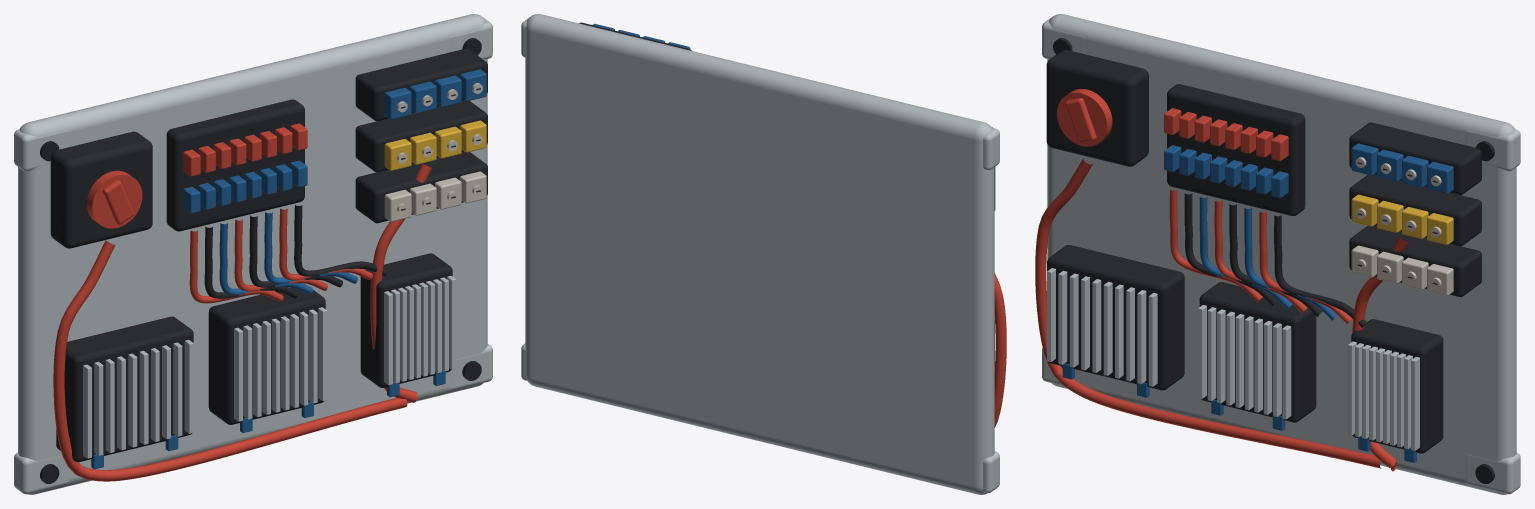
The model's file is anatomy-48.glb.
The picture shows the model from 3 angles, left to right: view 1: azimuth 30°, elevation 25°; view 2: azimuth 150°, elevation 25°; view 3: azimuth 330°, elevation 25°; orthographic projection.
Parts seen in each view (by area): view 1: frame, converters, terminals, harness, fuses, switch, terminal-screws, studs, clamps; view 2: frame, harness; view 3: frame, converters, terminals, harness, fuses, switch, terminal-screws, clamps, studs.
Part boxes in pixels (x1,y1,x2,y2): frame: (14, 14, 492, 494); converters: (56, 253, 455, 462); terminals: (355, 48, 487, 223); harness: (53, 163, 431, 481); fuses: (166, 99, 307, 231); switch: (50, 131, 152, 248); terminal-screws: (397, 83, 482, 214); studs: (40, 38, 481, 483); clamps: (91, 370, 445, 469); frame: (521, 14, 999, 494); harness: (994, 273, 1006, 427); frame: (1042, 14, 1520, 494); converters: (1047, 245, 1443, 453); terminals: (1349, 122, 1481, 297); harness: (1035, 158, 1409, 471); fuses: (1164, 84, 1305, 215); switch: (1046, 49, 1148, 166); terminal-screws: (1355, 157, 1441, 288); clamps: (1062, 363, 1416, 462); studs: (1053, 38, 1494, 483).
Bounding box in the file's own units: 2.27 × 1.71 × 0.3625.
